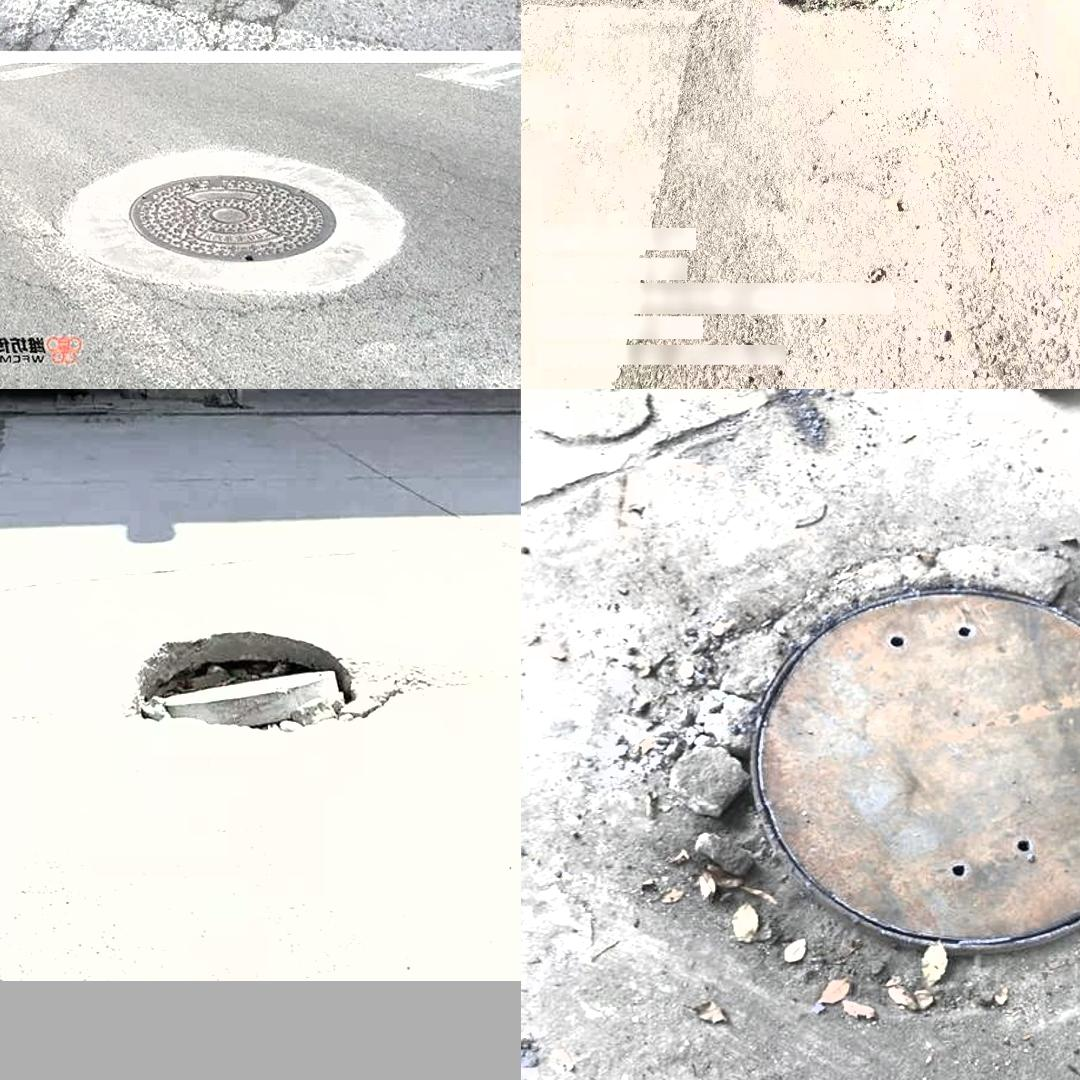circle: (608, 533, 1080, 1050), (109, 616, 433, 762), (6, 0, 386, 7), (730, 0, 1067, 2)
